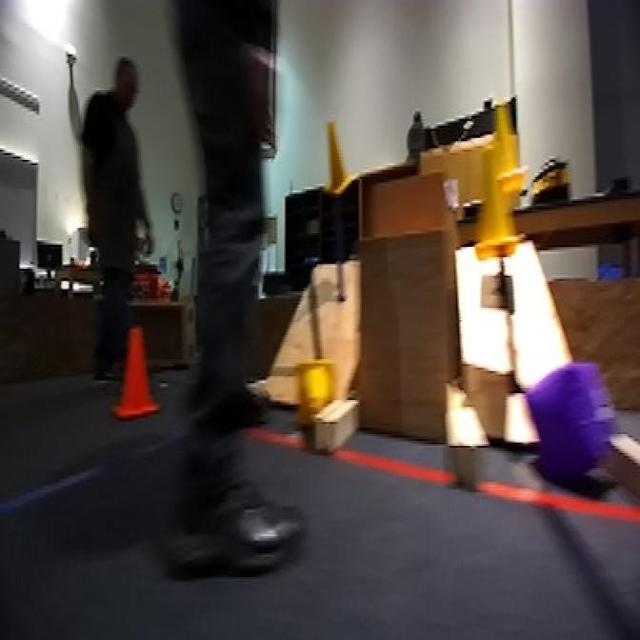frc_cone: (472, 141, 516, 264), (485, 97, 525, 194), (323, 121, 355, 192), (292, 363, 338, 410)
frc_cube: (531, 352, 621, 502)
